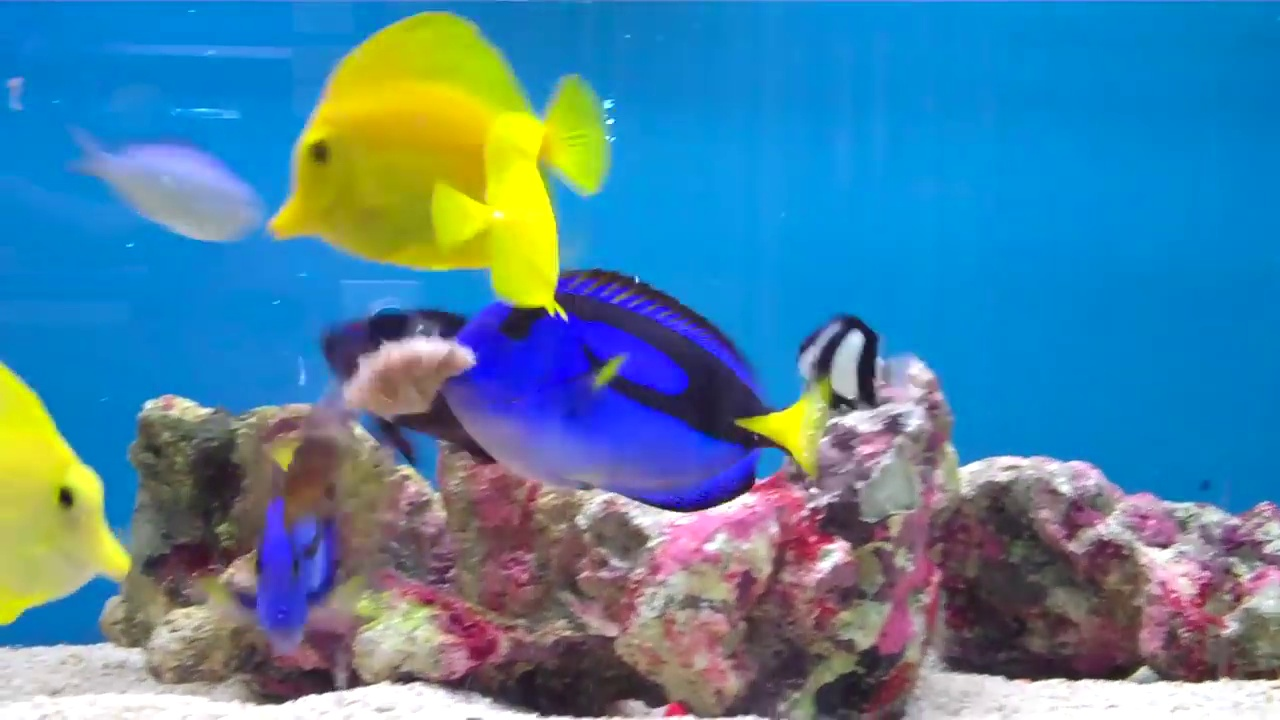blue tang surgeonfish: (439, 283, 827, 536)
damselfish: (66, 113, 269, 255)
saddle butterfly fish: (279, 21, 605, 271), (444, 111, 572, 328)
